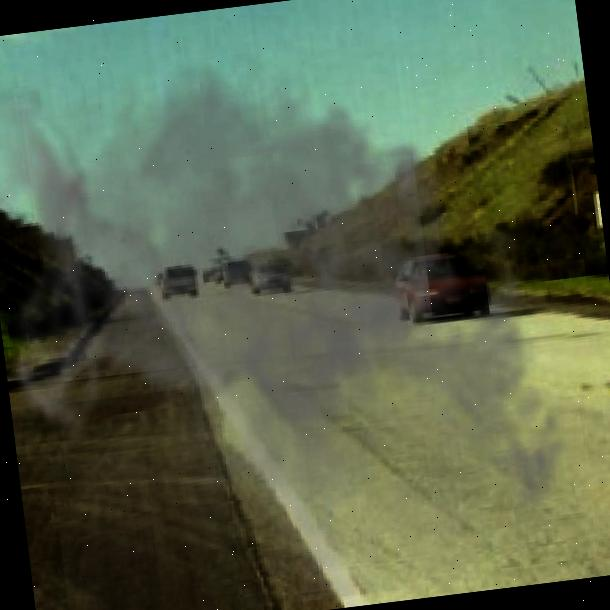smoke: (0, 0, 598, 610)
